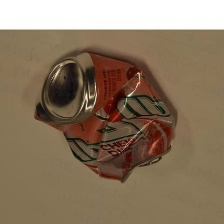can: (27, 47, 188, 187)
